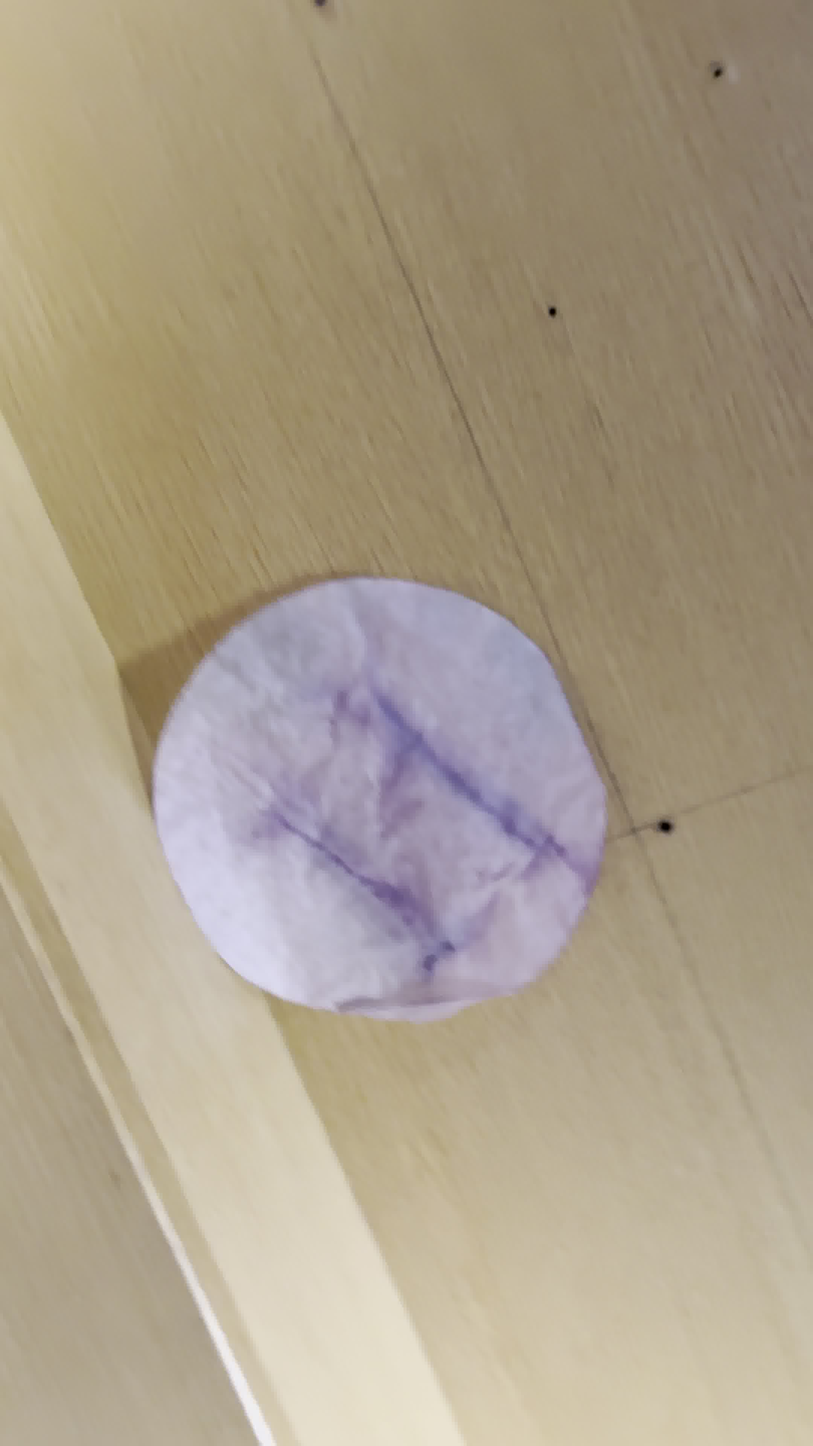Target: (150, 575, 607, 1023)
